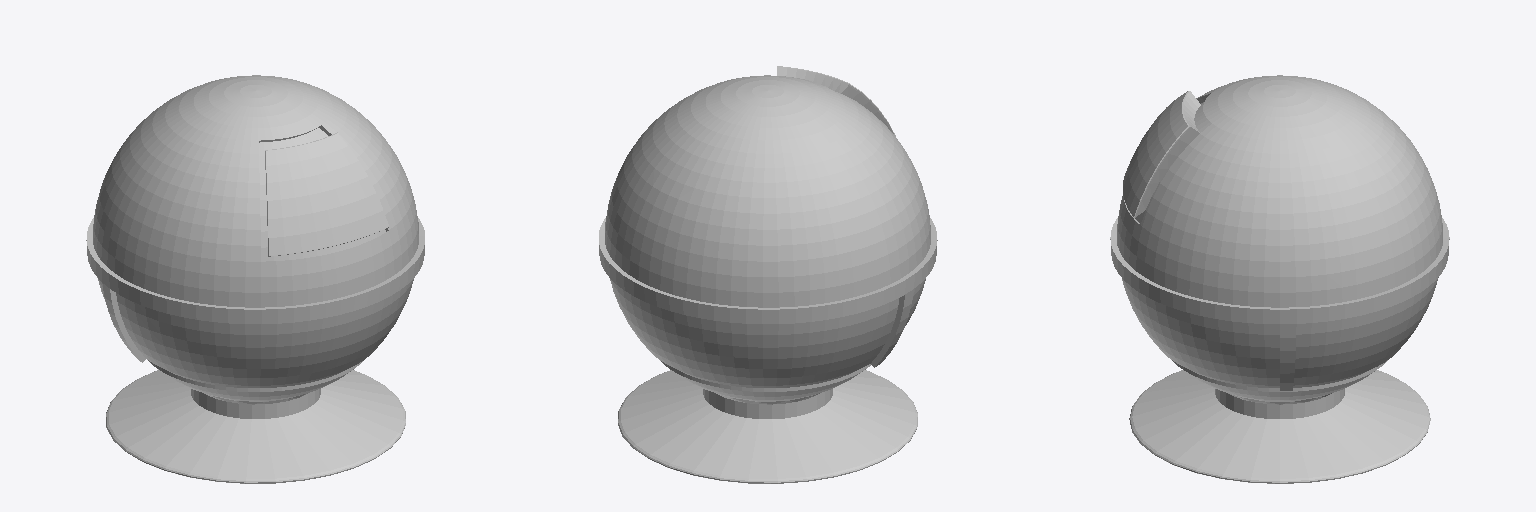
The model's file is shaderball.obj.
3 views of the same model, side by side, from view 1: azimuth 30°, elevation 25°; view 2: azimuth 150°, elevation 25°; view 3: azimuth 270°, elevation 25° (orthographic).
Parts seen in each view (by area): view 1: ShaderBall; view 2: ShaderBall; view 3: ShaderBall.
Boxes of the visible parts, <box> form: ShaderBall: <box>86,75,424,483</box>; ShaderBall: <box>599,66,937,483</box>; ShaderBall: <box>1110,75,1449,483</box>.
Bounding box in the file's own units: 2.08 × 2.23 × 2.08.